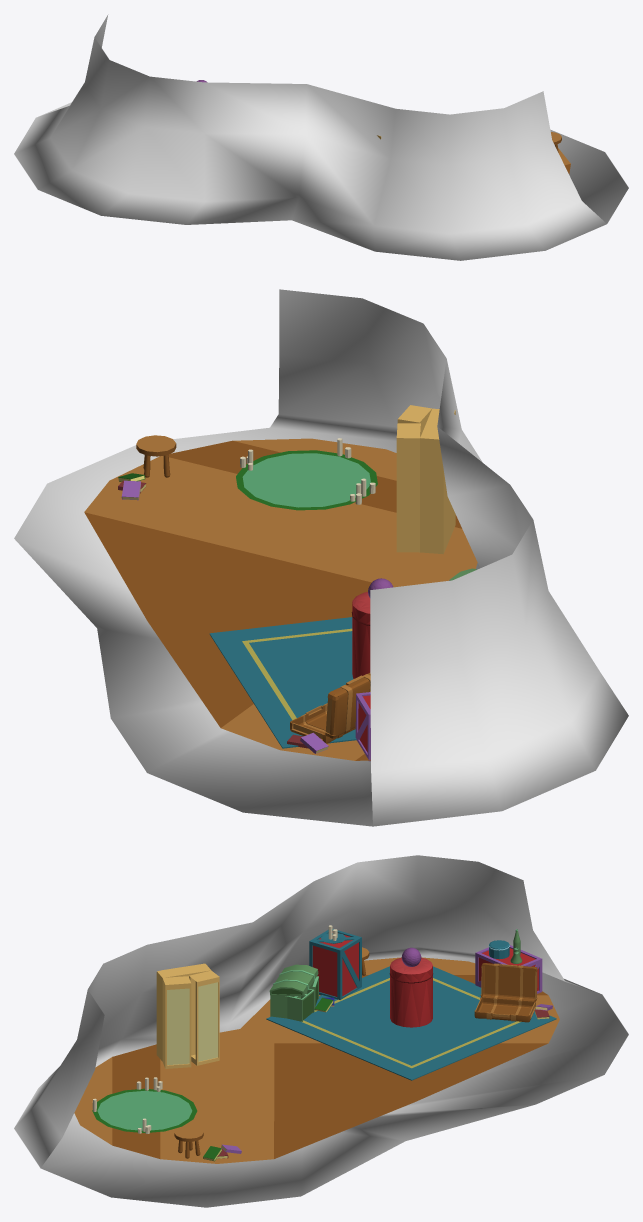
The model's file is SM_adivinacion_interior_mats05fbx (1).fbx.
The picture shows the model from 3 angles, top to bottom: view 1: azimuth 30°, elevation 25°; view 2: azimuth 150°, elevation 25°; view 3: azimuth 270°, elevation 25°; orthographic projection. The views are drawn at different scales.
Parts seen in each view (by area): view 1: Cylinder.006; view 2: Cylinder.006, Cylinder, Plane, Box001.001, Parte_abajo_derecha.001, Object004, Box002, Box003.001; view 3: Cylinder.006, Cylinder, Plane, Box003, parte_abajo_izqueirda.001, Parte_abajo_derecha.001, Object004, Box002, Parte_arriba, Box001.001, Box003.001, parte_abajo_izqueirda.
Part boxes in pixels (x1=…): Cylinder.006: x1=14, y1=14, x2=628, y2=260; Cylinder.006: x1=14, y1=289, x2=628, y2=826; Cylinder: x1=84, y1=438, x2=477, y2=760; Plane: x1=209, y1=617, x2=356, y2=748; Box001.001: x1=420, y1=408, x2=455, y2=554; Parte_abajo_derecha.001: x1=396, y1=423, x2=420, y2=552; Object004: x1=325, y1=673, x2=370, y2=738; Box002: x1=290, y1=703, x2=355, y2=743; Box003.001: x1=355, y1=692, x2=370, y2=761; Cylinder.006: x1=14, y1=855, x2=628, y2=1207; Cylinder: x1=74, y1=947, x2=559, y2=1163; Plane: x1=266, y1=966, x2=556, y2=1080; Box003: x1=309, y1=929, x2=361, y2=999; parte_abajo_izqueirda.001: x1=162, y1=976, x2=191, y2=1068; Parte_abajo_derecha.001: x1=189, y1=970, x2=219, y2=1065; Object004: x1=480, y1=963, x2=537, y2=1002; Box002: x1=474, y1=997, x2=535, y2=1022; Parte_arriba: x1=269, y1=964, x2=318, y2=996; Box001.001: x1=156, y1=963, x2=211, y2=1061; Box003.001: x1=475, y1=945, x2=542, y2=993; parte_abajo_izqueirda: x1=287, y1=989, x2=314, y2=1021.
Bounding box in the file's own units: 803 × 251 × 826.
